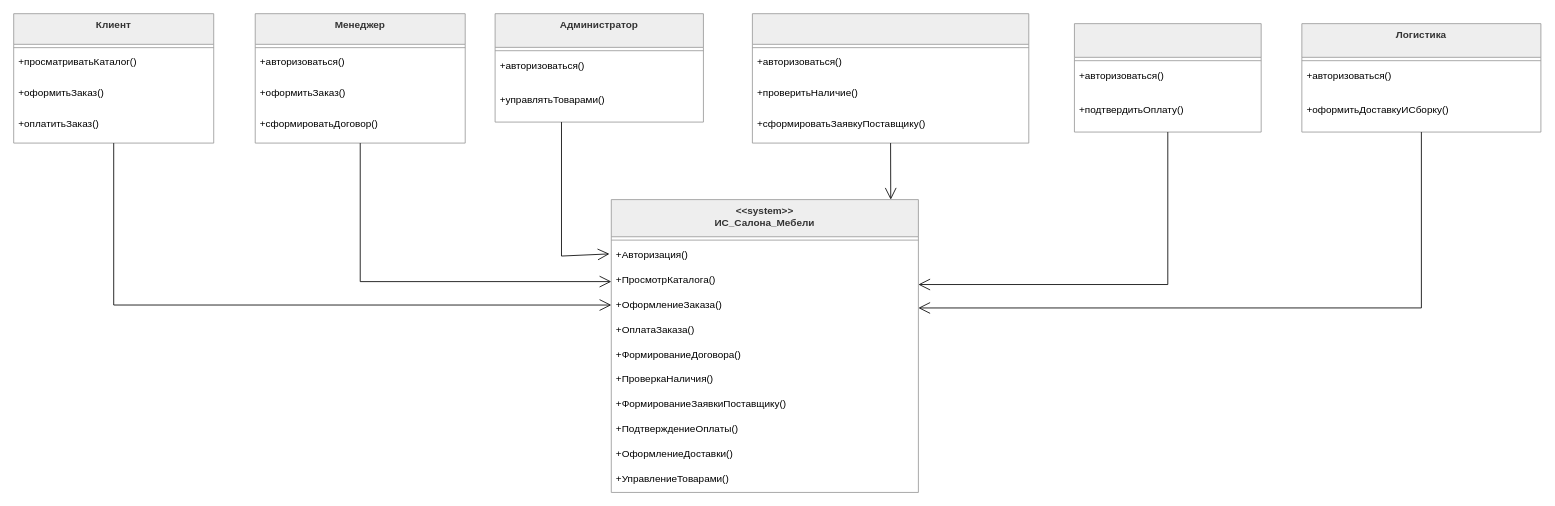
Image size: 1555x506. Some labels were removed from this diagram. The box of each missing label's shape, as (x1, y1, x2, y2) in pixels:
Снабжение: (752, 13, 1029, 143)
Финансы: (1074, 23, 1261, 132)
